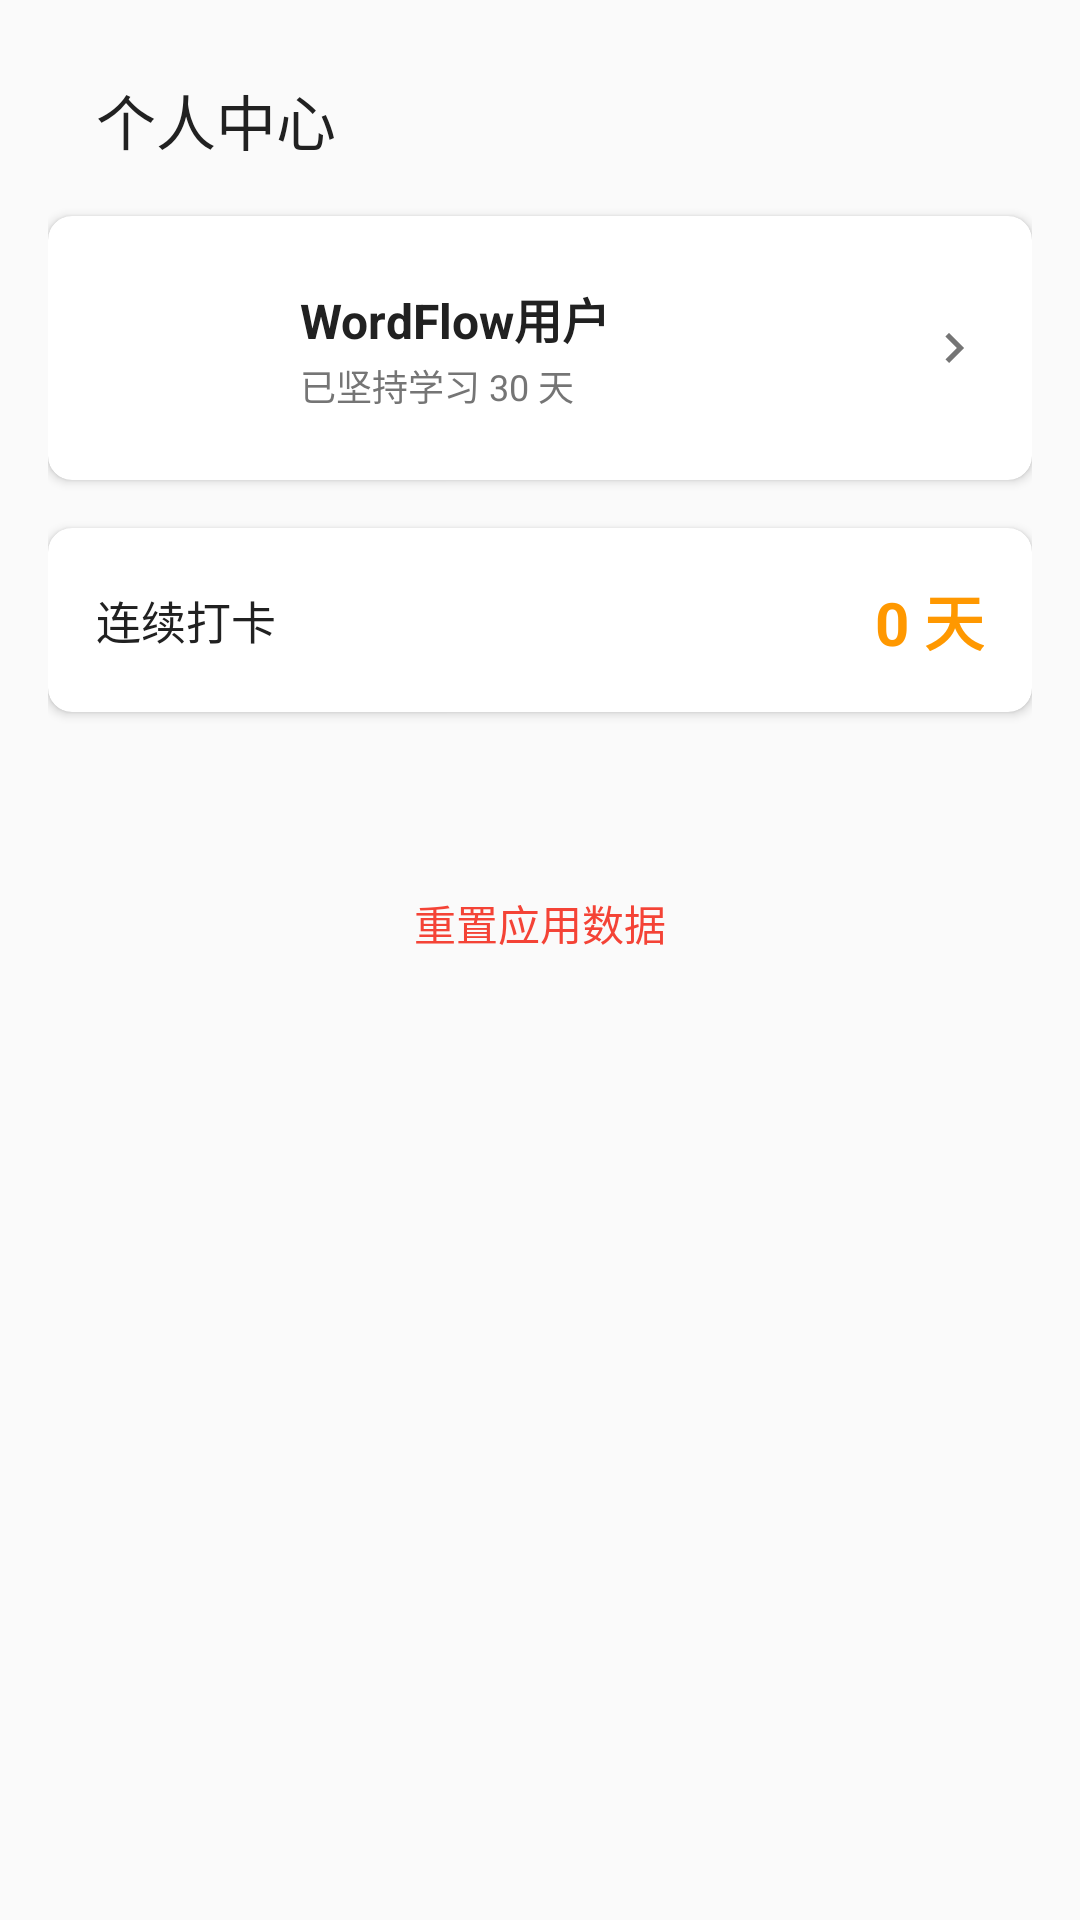

Icon click points for this 1080 × 1920 phone screenshot, format point (x, y):
arrow right: point (954, 348)
